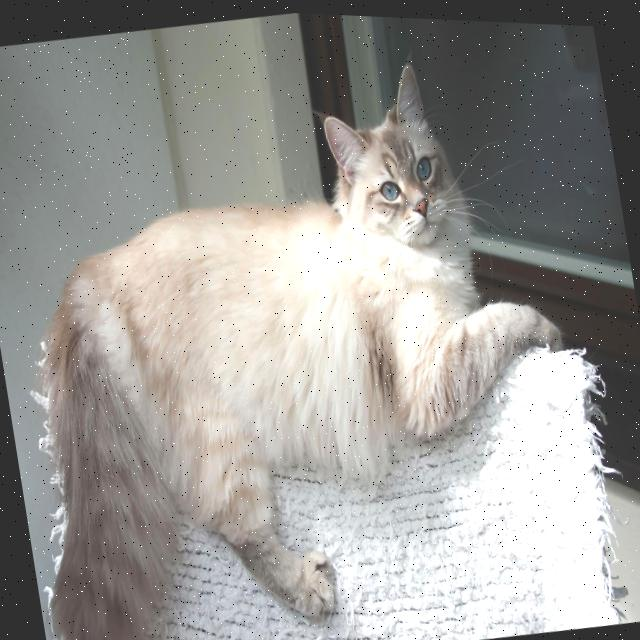Neva Masquerade: (0, 22, 610, 640)
